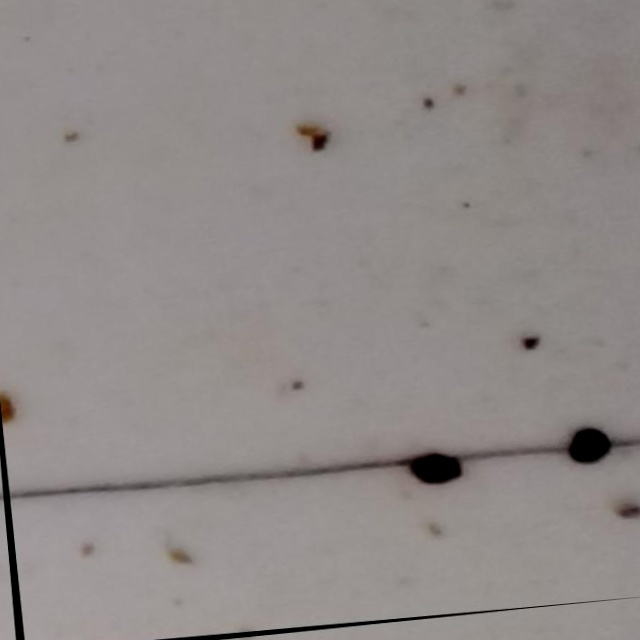varroa: (402, 449, 463, 490), (563, 427, 612, 470)
